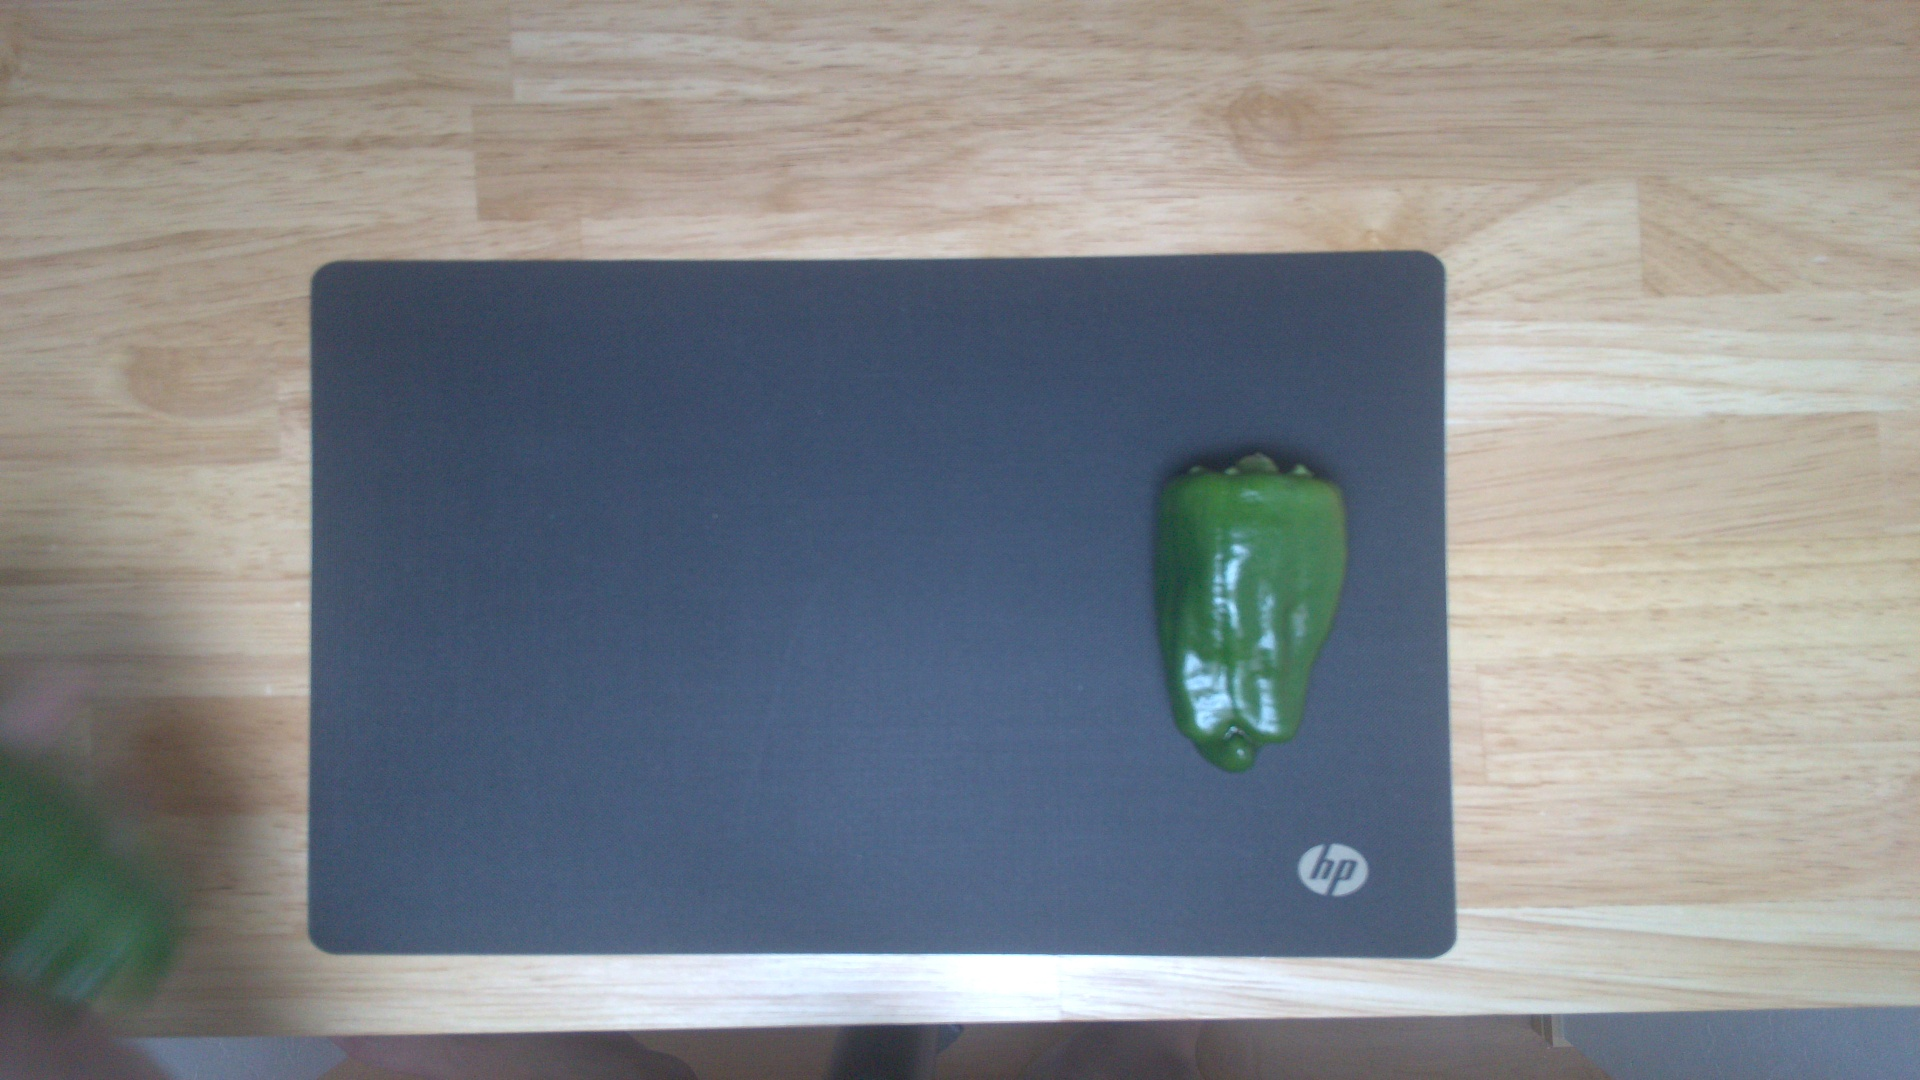Piman: (1149, 443, 1352, 774)
